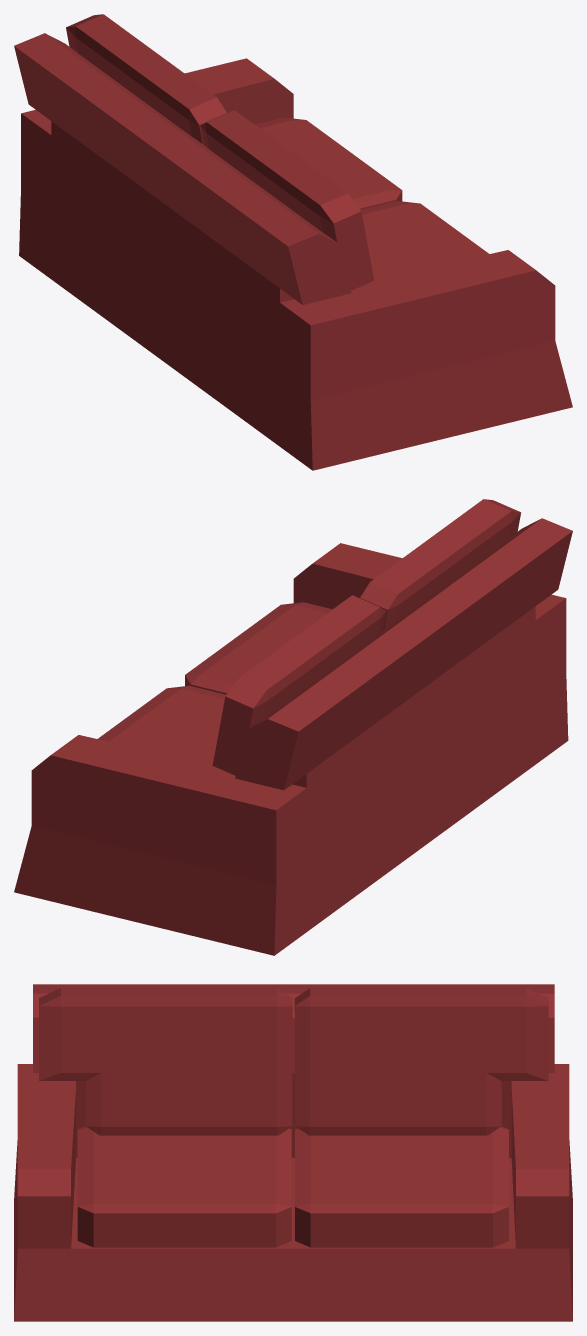
Rendered from quaternius-furniture-sofadouble.glb.
3 views of the same model, one above another, from view 1: azimuth 30°, elevation 25°; view 2: azimuth 150°, elevation 25°; view 3: azimuth 270°, elevation 25° (orthographic). The views are drawn at different scales.
Parts seen in each view (by area): view 1: SofaDouble; view 2: SofaDouble; view 3: SofaDouble.
Part boxes in pixels (bbox=[...]): SofaDouble: bbox=[14, 14, 572, 470]; SofaDouble: bbox=[14, 499, 572, 955]; SofaDouble: bbox=[14, 984, 572, 1321].
Bounding box in the file's own units: 0.737 × 0.6275 × 1.36.
